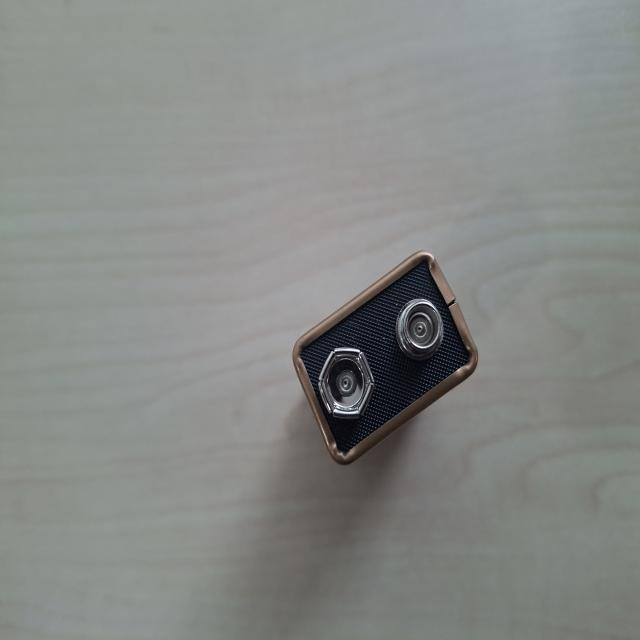9V: (132, 390, 292, 636)
